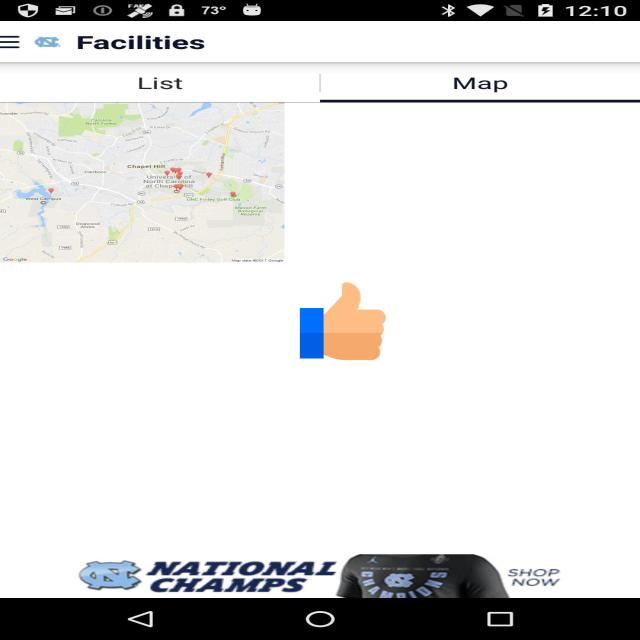privacy zuckering: (300, 280, 386, 362)
